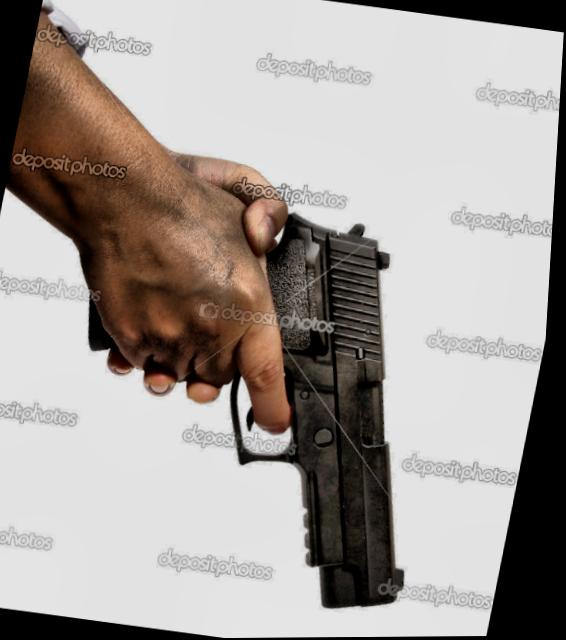pistol: (0, 173, 496, 636)
